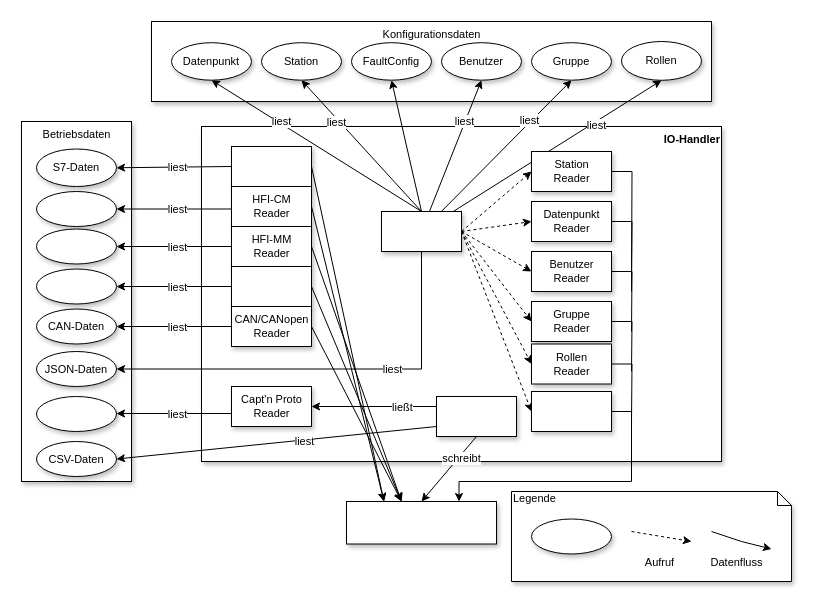
The diagram is 815 pixels wide and 606 high, and some of its shapes have lost their labels. Each missing label, with the centre of its shape:
"Binäre-Daten" belongs at (77,415).
"Daten" belongs at (572,537).
"Datenbankverwaltung" belongs at (422,523).
"FaultConfig Reader" belongs at (572,412).
"HFI-CM-Daten" belongs at (77,210).
"HFI-MM-Daten" belongs at (77,247).
"ImportHandler" belongs at (477,418).
"JSONReader" belongs at (422,232).
"OPC-UA Reader" belongs at (272,288).
"OPC-UA-Daten" belongs at (77,287).
"S7 Prtokoll Reader" belongs at (272,168).
